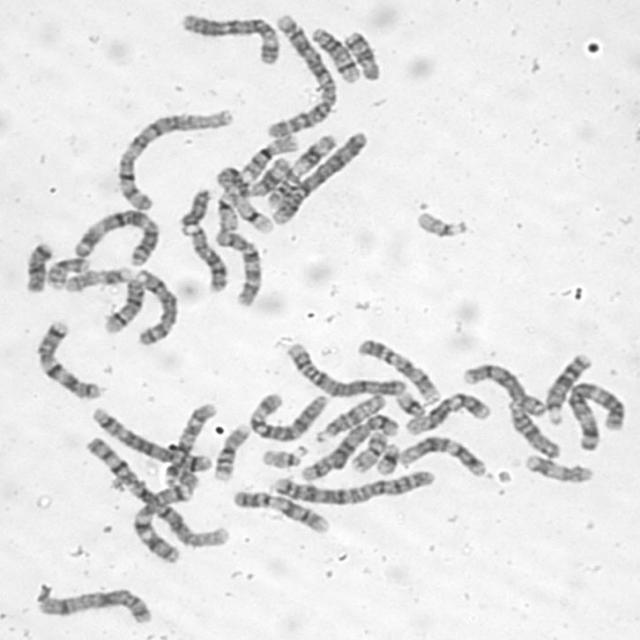A1: (82, 433, 231, 550), (113, 105, 236, 213)
A2: (263, 12, 340, 140), (268, 465, 438, 508)
A3: (69, 205, 162, 268), (564, 378, 629, 453)
B4: (268, 128, 370, 225), (284, 340, 409, 399)
B5: (88, 404, 214, 474), (296, 412, 399, 482)
C10: (160, 398, 218, 490), (211, 224, 265, 310)
C11: (262, 130, 341, 210), (212, 155, 292, 200)
C12: (403, 390, 493, 437), (397, 432, 489, 477)
C6: (176, 8, 283, 68), (246, 387, 330, 444)
C7: (128, 478, 198, 565), (33, 317, 106, 400)
C8: (458, 360, 548, 419), (130, 266, 180, 348)
C9: (353, 334, 442, 406), (228, 488, 331, 536)
D13: (540, 350, 595, 427), (183, 220, 229, 294)
D14: (308, 23, 362, 85), (99, 274, 148, 336)
D15: (312, 391, 389, 442), (505, 398, 563, 459)
E16: (237, 134, 301, 182), (209, 420, 252, 482)
E17: (519, 450, 596, 486), (61, 263, 135, 294)
E18: (340, 28, 383, 83), (21, 238, 55, 295)
F19: (232, 192, 278, 236), (213, 188, 241, 231)
F20: (42, 254, 94, 291), (348, 430, 388, 474)
G21: (393, 386, 428, 419), (371, 440, 401, 477)
G22: (412, 207, 470, 240), (258, 442, 310, 470)
X: (34, 584, 156, 626)
Y: (176, 186, 212, 232)
